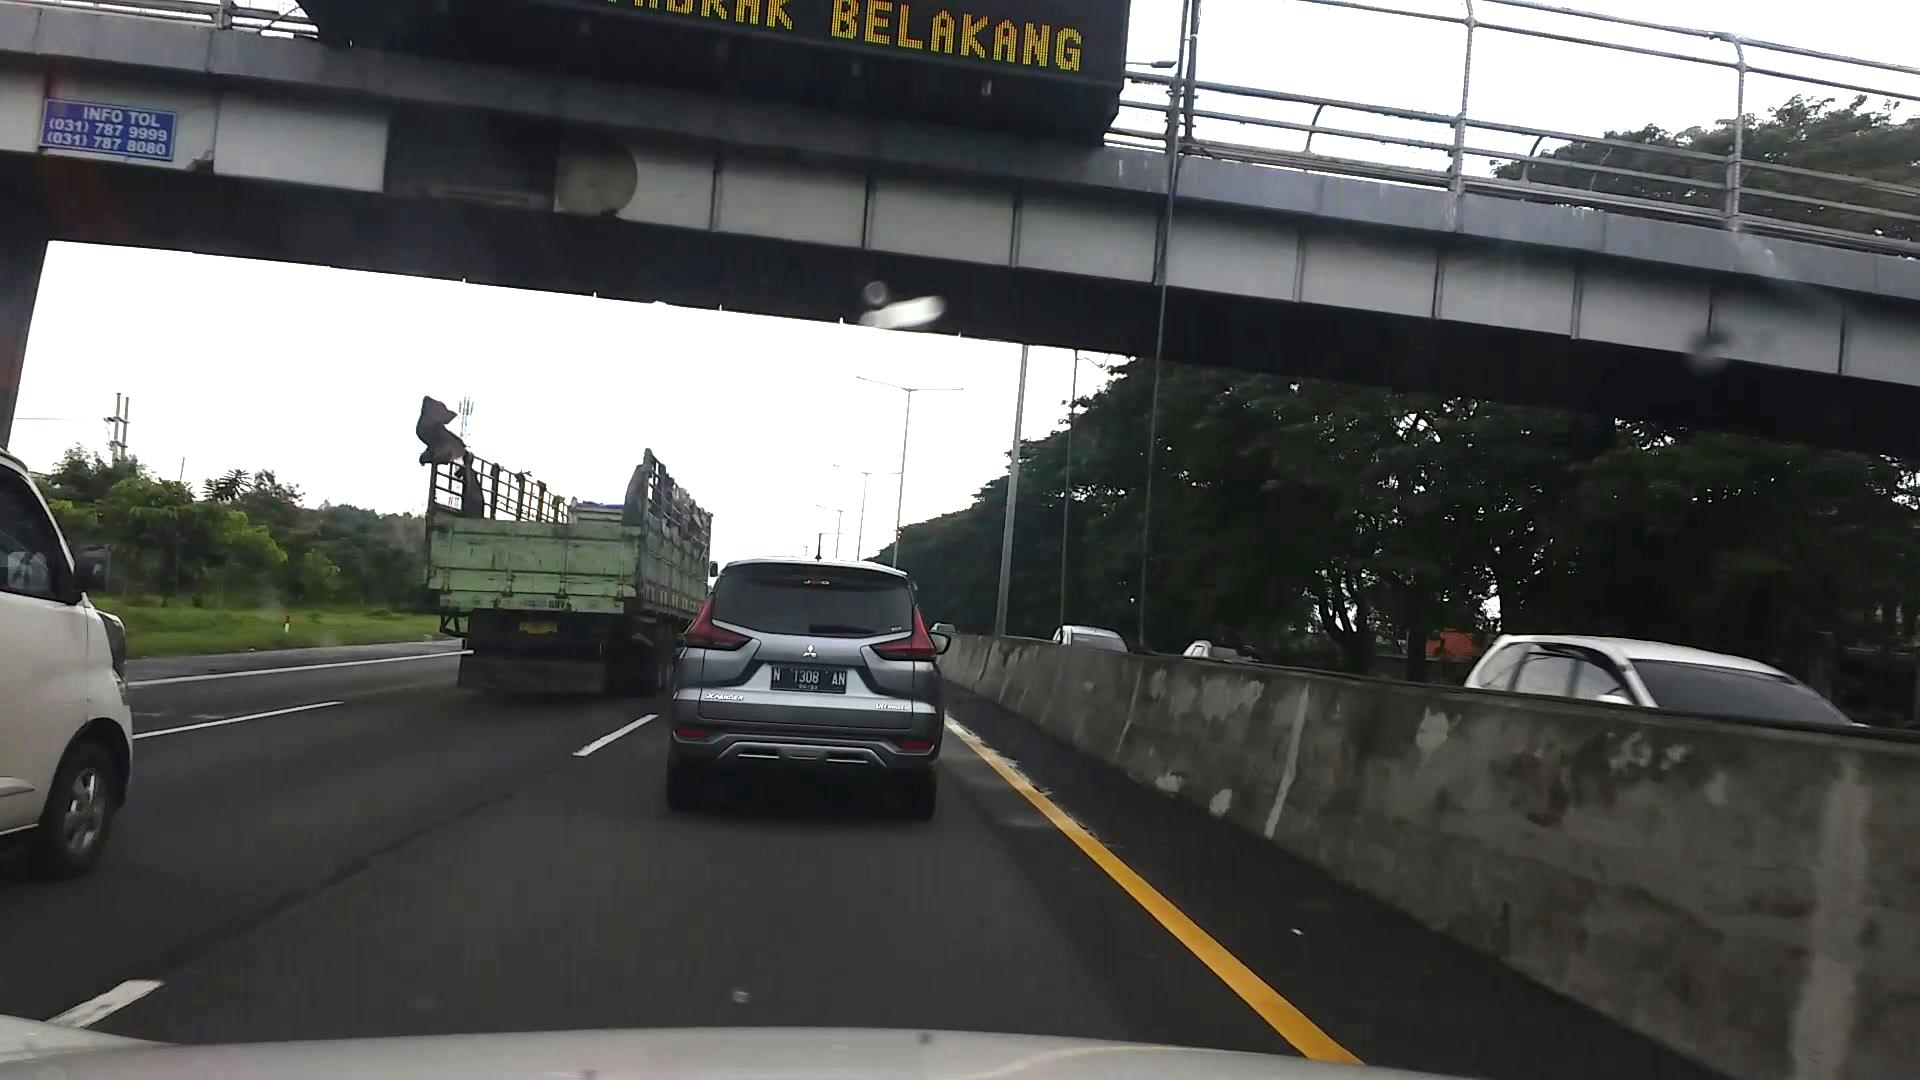plate_positive: (770, 665, 847, 694)
